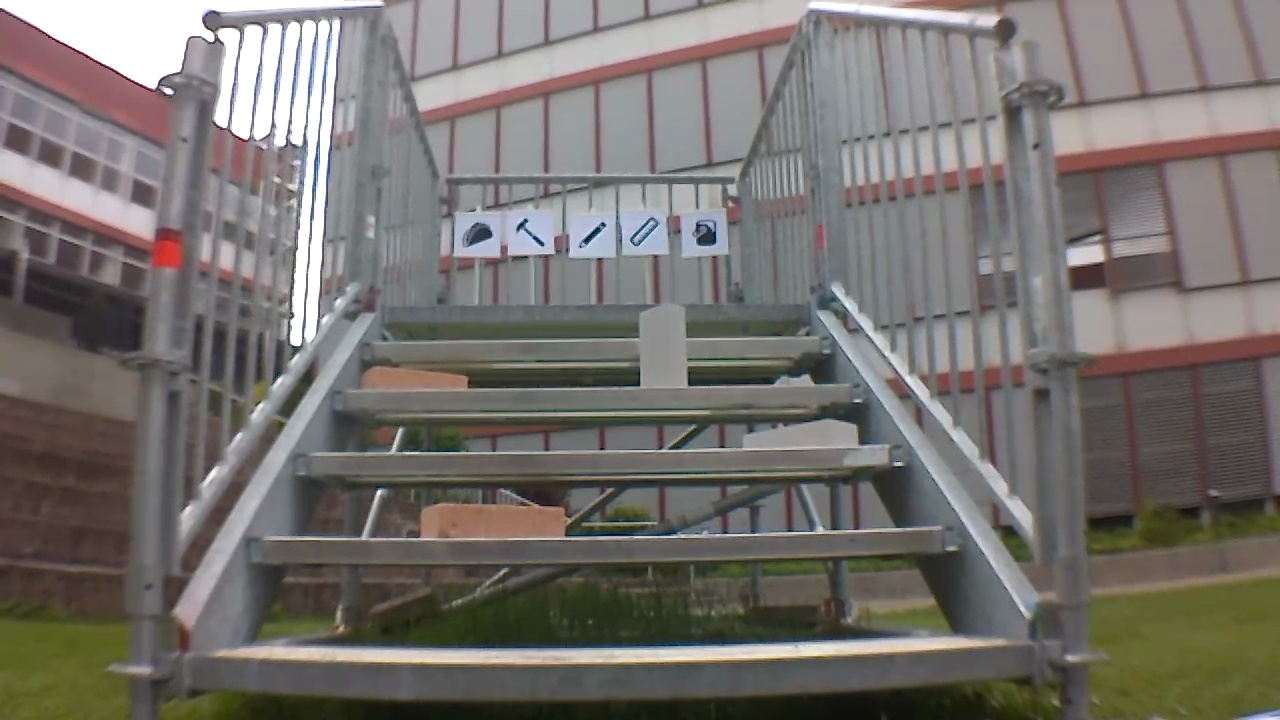brick: (419, 503, 564, 538), (639, 305, 686, 385), (743, 420, 856, 447), (364, 367, 465, 390)
bucket: (688, 215, 720, 248)
edge: (189, 644, 1037, 699), (249, 526, 965, 564), (296, 444, 912, 472), (332, 383, 865, 408), (361, 336, 835, 358), (385, 303, 815, 322)
hammer: (511, 215, 550, 251)
pencil: (575, 218, 611, 254)
ruler: (625, 212, 664, 249)
stairs: (124, 2, 1100, 718)
steps: (186, 297, 1044, 705)
taco: (458, 219, 496, 251)
